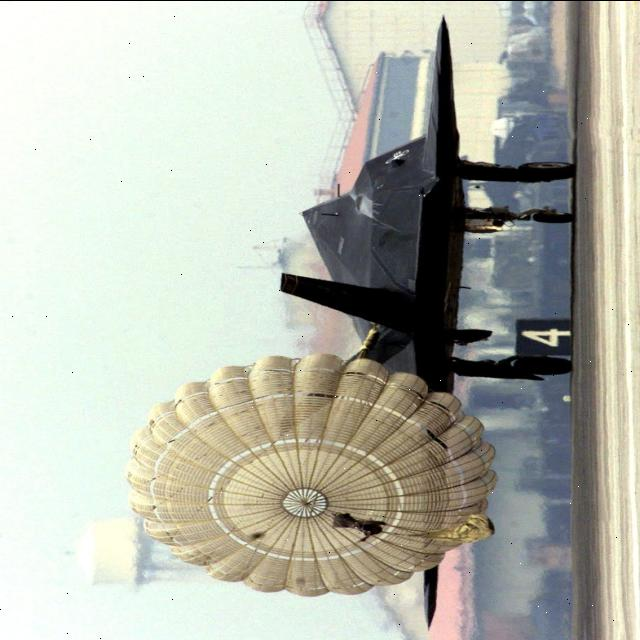F117: (80, 0, 588, 637)
